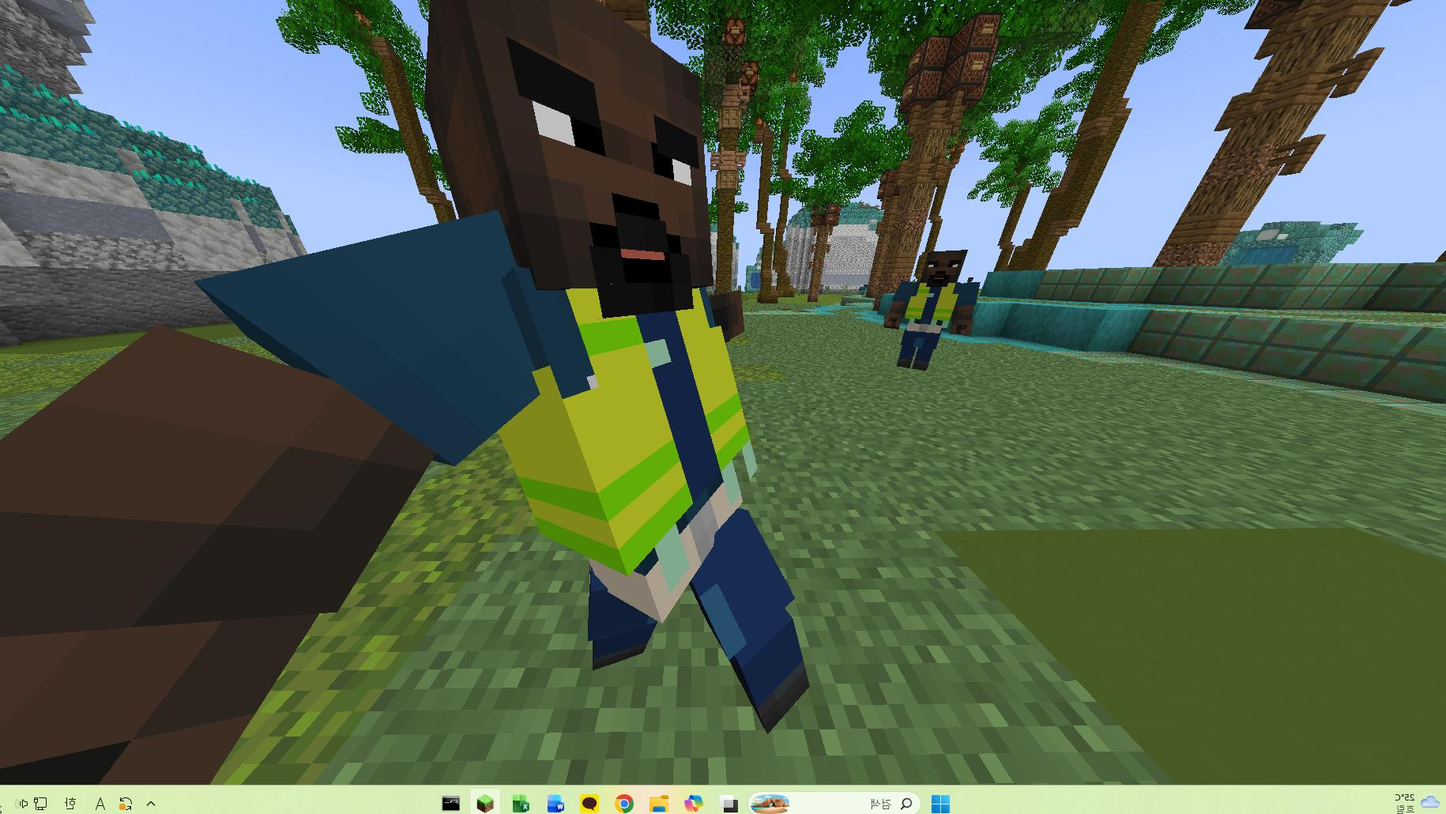Guardian: (0, 0, 809, 783), (884, 251, 979, 370)
